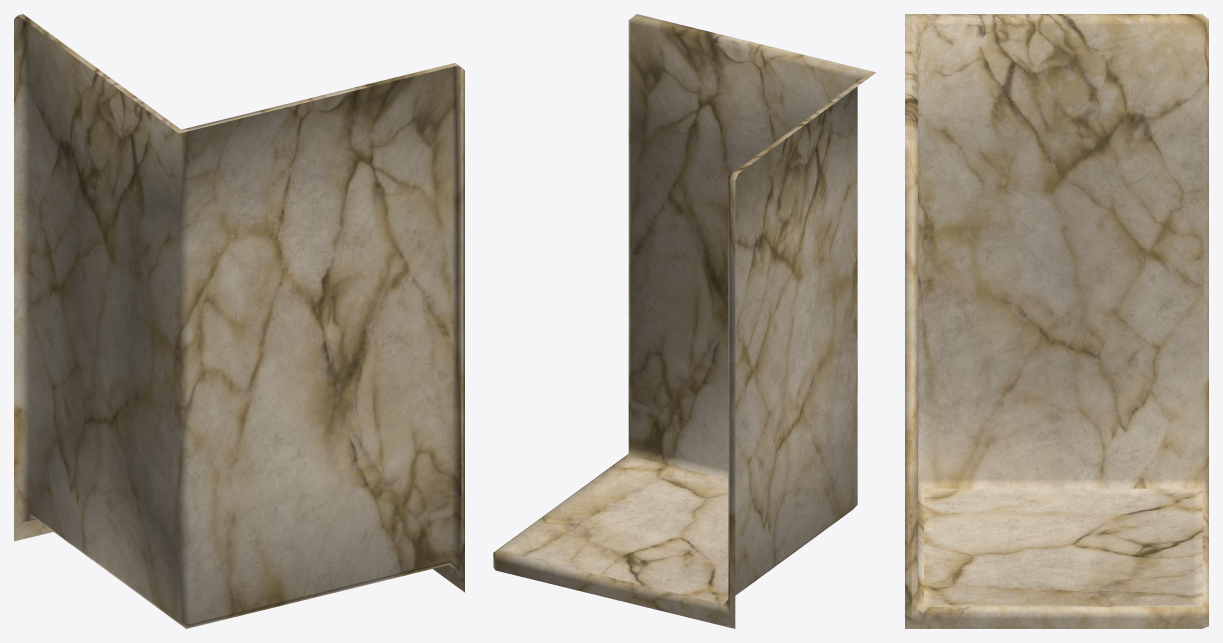
File: ducha.fbx
The picture shows the model from 3 angles, left to right: view 1: azimuth 30°, elevation 25°; view 2: azimuth 150°, elevation 25°; view 3: azimuth 270°, elevation 25°; orthographic projection. The views are drawn at different scales.
Visible parts, largest first — view 1: Plane; view 2: Plane; view 3: Plane.
Boxes of the visible parts, <box> form: Plane: <box>14,14,464,628</box>; Plane: <box>493,14,876,628</box>; Plane: <box>905,14,1208,628</box>.
Bounding box in the file's own units: 237 × 419 × 237.
